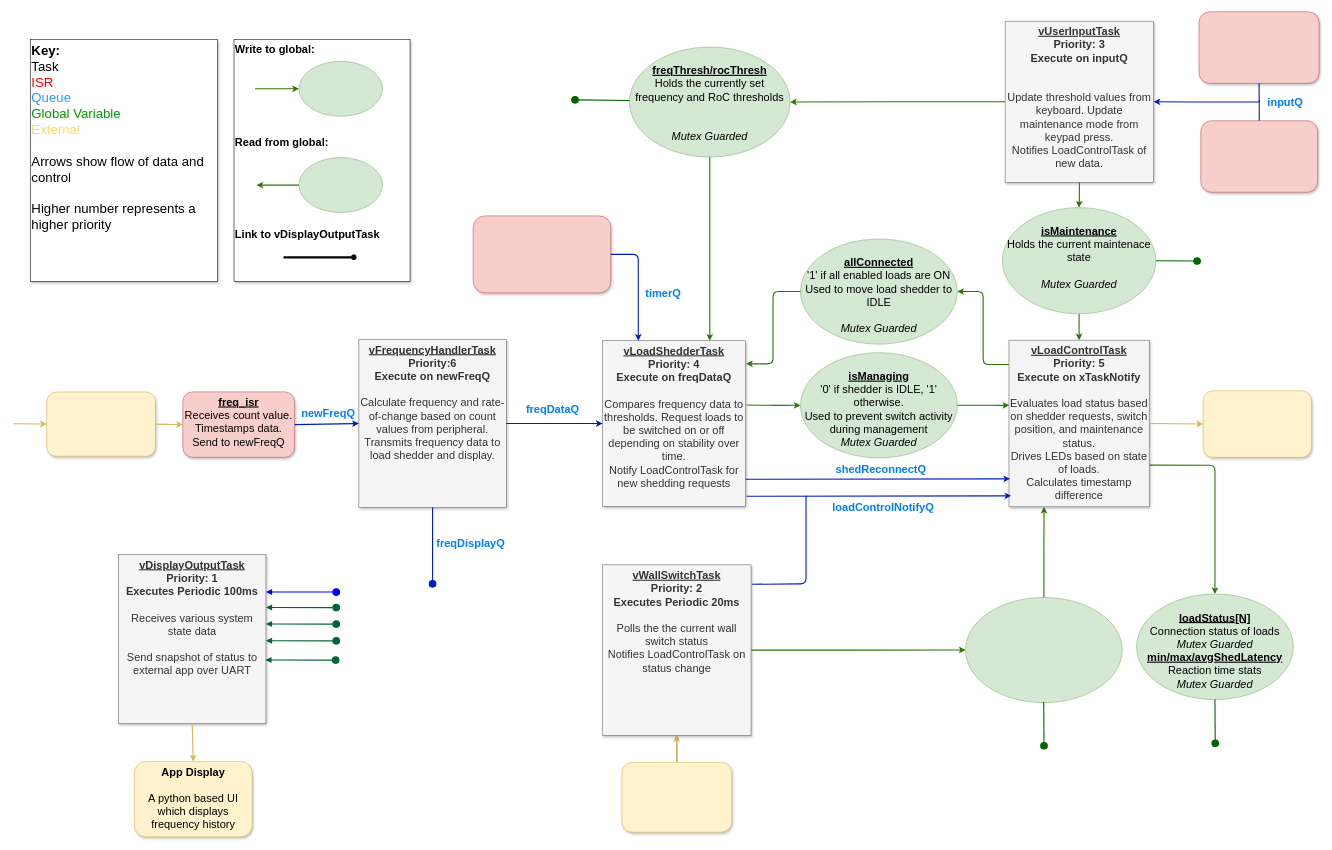
The diagram is 1332 pixels wide and 850 high, and some of its shapes have lost their labels. The centre of each missing label's shape, as x and y in pixels:
"ButtonISR Trigger on button press Send special character to inputQ" belongs at pixel 1259 157.
"FrequencyAnalyser" belongs at pixel 101 424.
"keyboard_isr Trigger on new ps/2 keyboard input Send to inputQ" belongs at pixel 1259 48.
"LEDs" belongs at pixel 1257 424.
"Switches" belongs at pixel 677 798.
"switchVal[N] The current position of N switches Mutex Guarded" belongs at pixel 1043 650.
"timer_shed_isr A 500ms timer for shedding/unshedding Send timer expire to timerQ" belongs at pixel 542 255.
